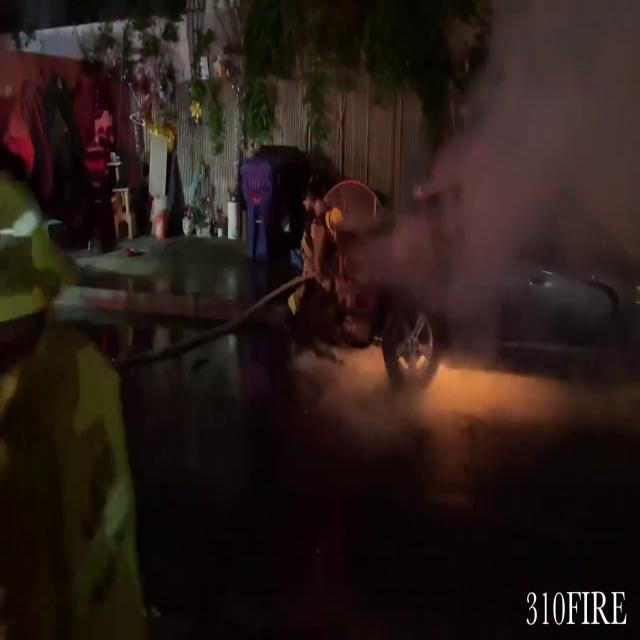Smoke: (408, 0, 640, 276)
